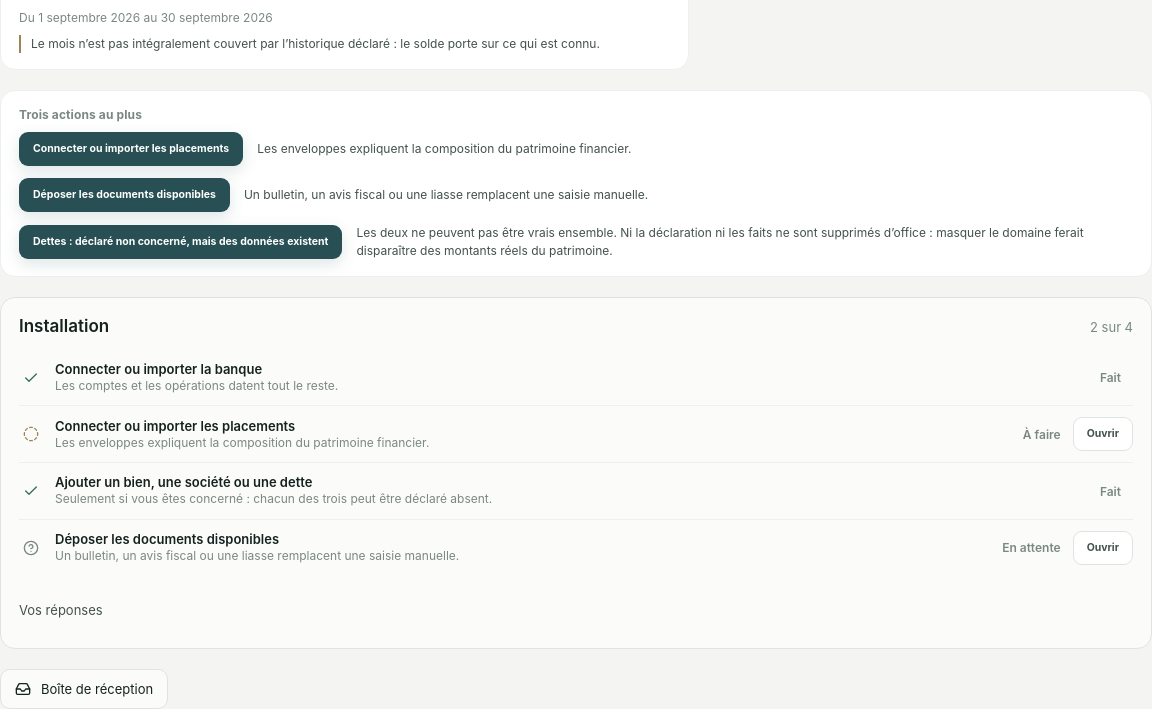
Scenario: boîte de réception — tiroir, six vues, quatre explications › explique une tâche par fait, importance, preuve et effet — à l'ouverture, pas avant
This screenshot has width=1152, height=709.
(page scrolled)
Click the button "Boîte de réception" at (84, 689), box top-left (0, 669), bottom-right (168, 708)
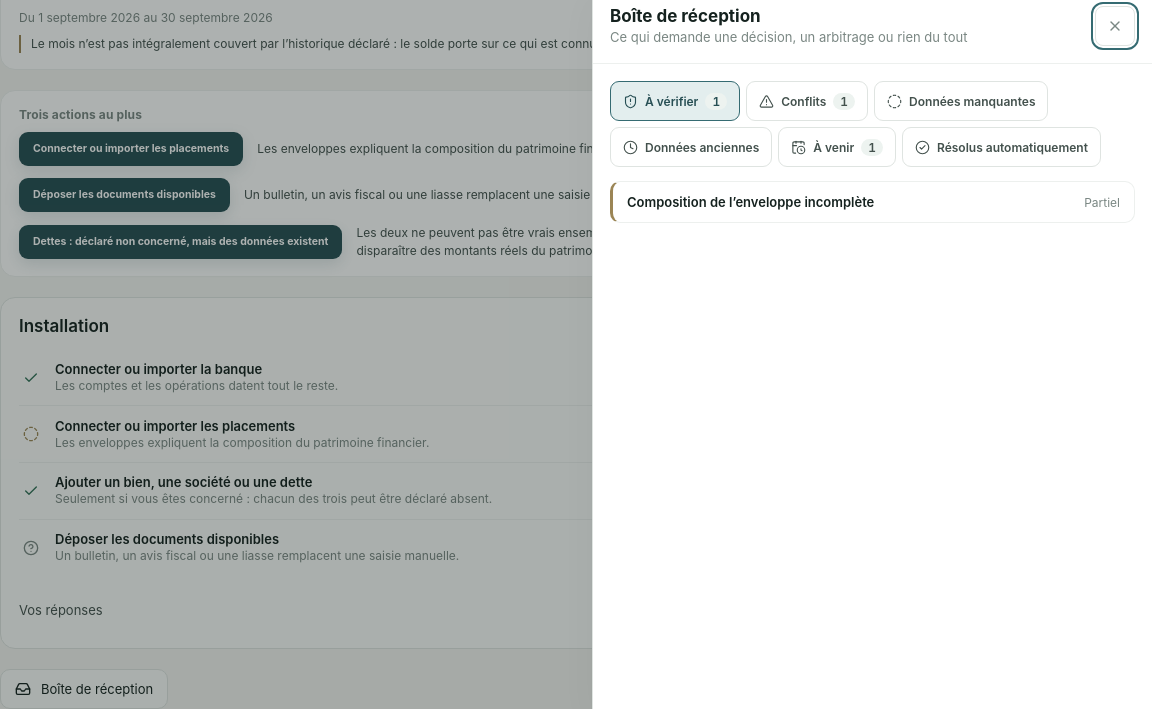
Expected: the text "Pourquoi cela compte" is not shown
Click the button "Composition de l’enveloppe incomplète Partiel" at (874, 202), box top-left (613, 182), bottom-right (1134, 222)
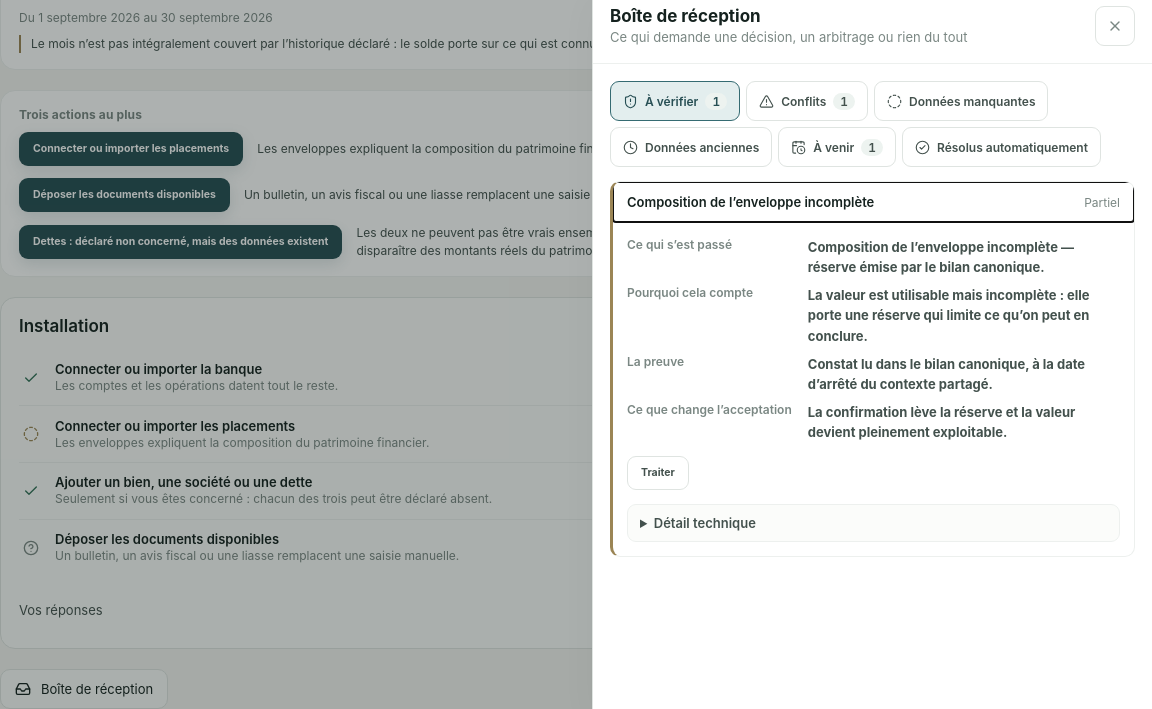
Expected: the text "Ce qui s’est passé" is shown, top-left (627, 237), bottom-right (732, 252)
Expected: the text "Pourquoi cela compte" is shown, top-left (627, 285), bottom-right (753, 300)
Expected: the text "La preuve" is shown, top-left (627, 354), bottom-right (684, 369)
